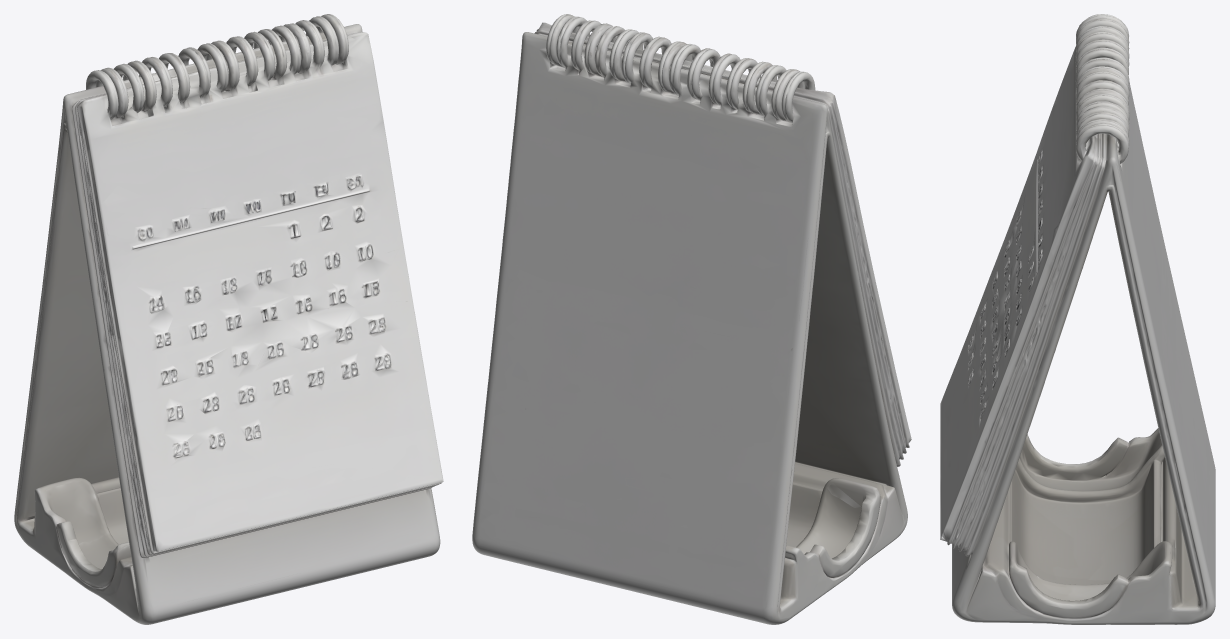
3 renders of one model, left to right at view 1: azimuth 30°, elevation 25°; view 2: azimuth 150°, elevation 25°; view 3: azimuth 270°, elevation 25°, orthographic. The views are drawn at different scales.
Visible parts, largest first — view 1: node_0; view 2: node_0; view 3: node_0.
Part boxes in pixels (box(x1,y1,x2,y2)): node_0: box(14, 14, 443, 624); node_0: box(472, 14, 911, 624); node_0: box(940, 14, 1215, 624).
Size of the model in its own units: 0.6035 by 0.9632 by 0.4942.
1 material, 1 textured.
